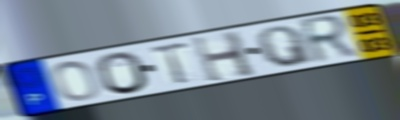H: (189, 29, 260, 84)
O: (95, 50, 152, 97), (50, 59, 102, 102)
Q: (256, 24, 317, 69)
R: (296, 13, 361, 67)
T: (149, 39, 191, 86)
